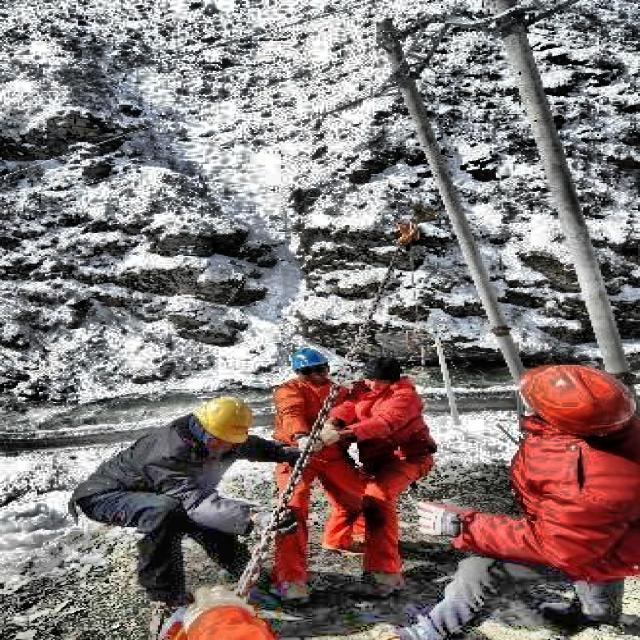helmet: (498, 354, 634, 446), (193, 390, 254, 450), (285, 347, 335, 385)
